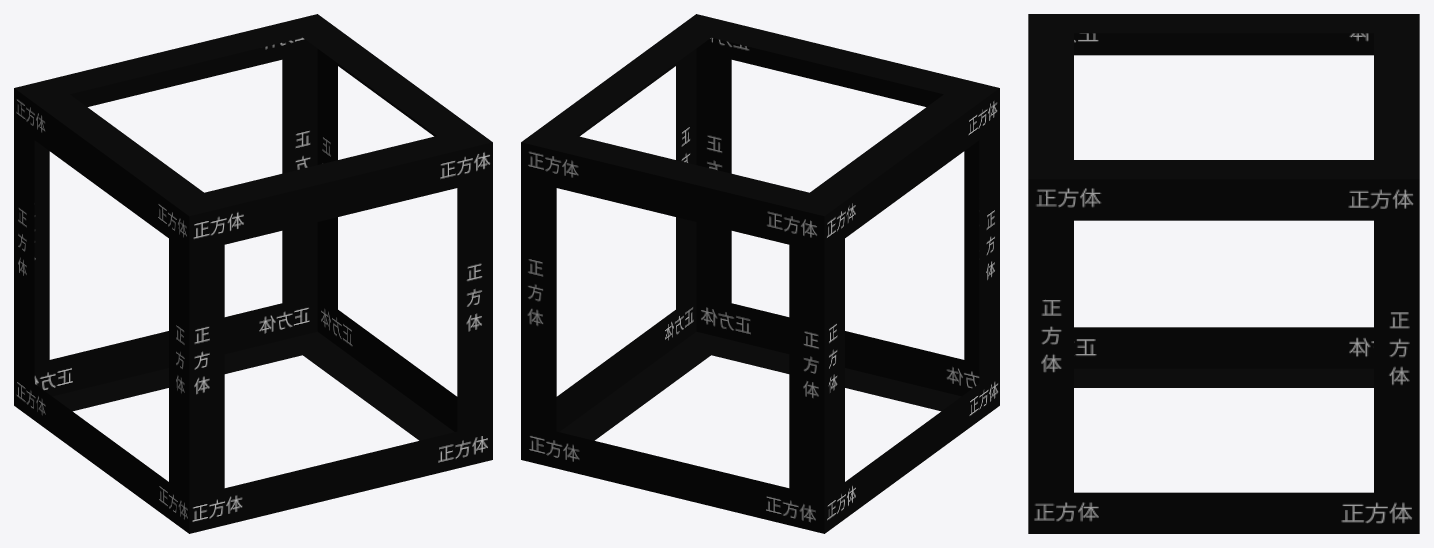
3 renders of one model, left to right at view 1: azimuth 30°, elevation 25°; view 2: azimuth 150°, elevation 25°; view 3: azimuth 270°, elevation 25°, orthographic. The views are drawn at different scales.
Parts seen in each view (by area): view 1: 立方体; view 2: 立方体; view 3: 立方体.
Part boxes in pixels (box(x1,y1,x2,y2)): 立方体: box(14, 14, 492, 533); 立方体: box(521, 14, 999, 533); 立方体: box(1028, 14, 1419, 533).
Size of the model in its own units: 219 by 219 by 219.
